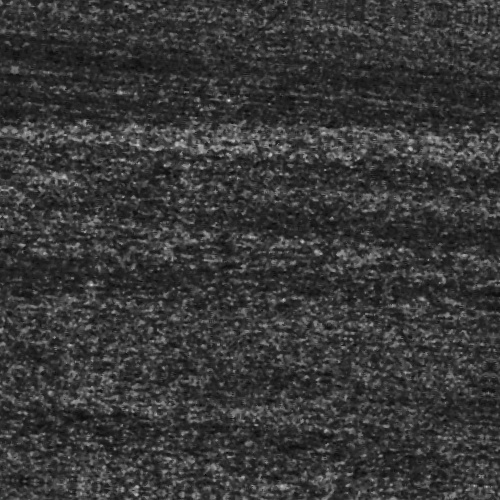object: (445, 495, 500, 500)
shadow: (393, 495, 491, 500)
